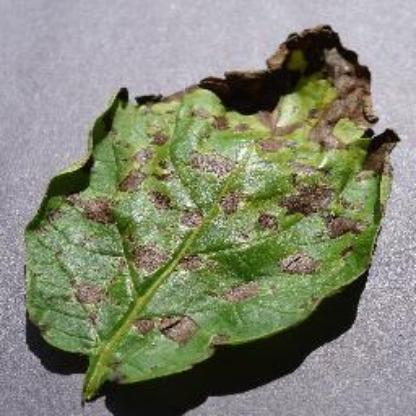Early-Blight: (21, 18, 403, 404)
